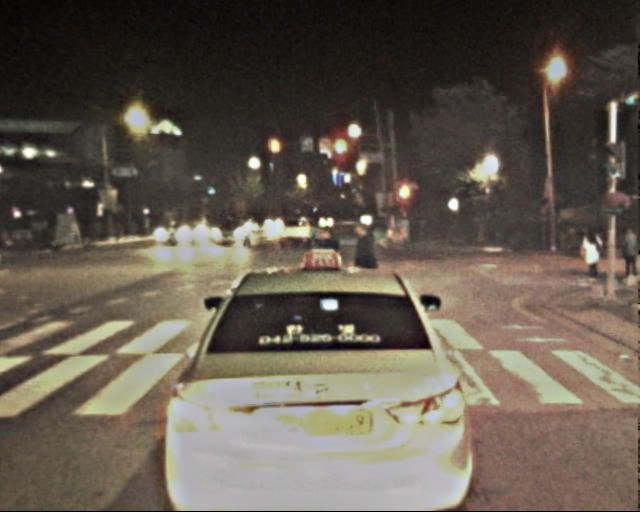person: (309, 221, 350, 322), (352, 217, 385, 321), (579, 226, 604, 287), (617, 227, 639, 285)
